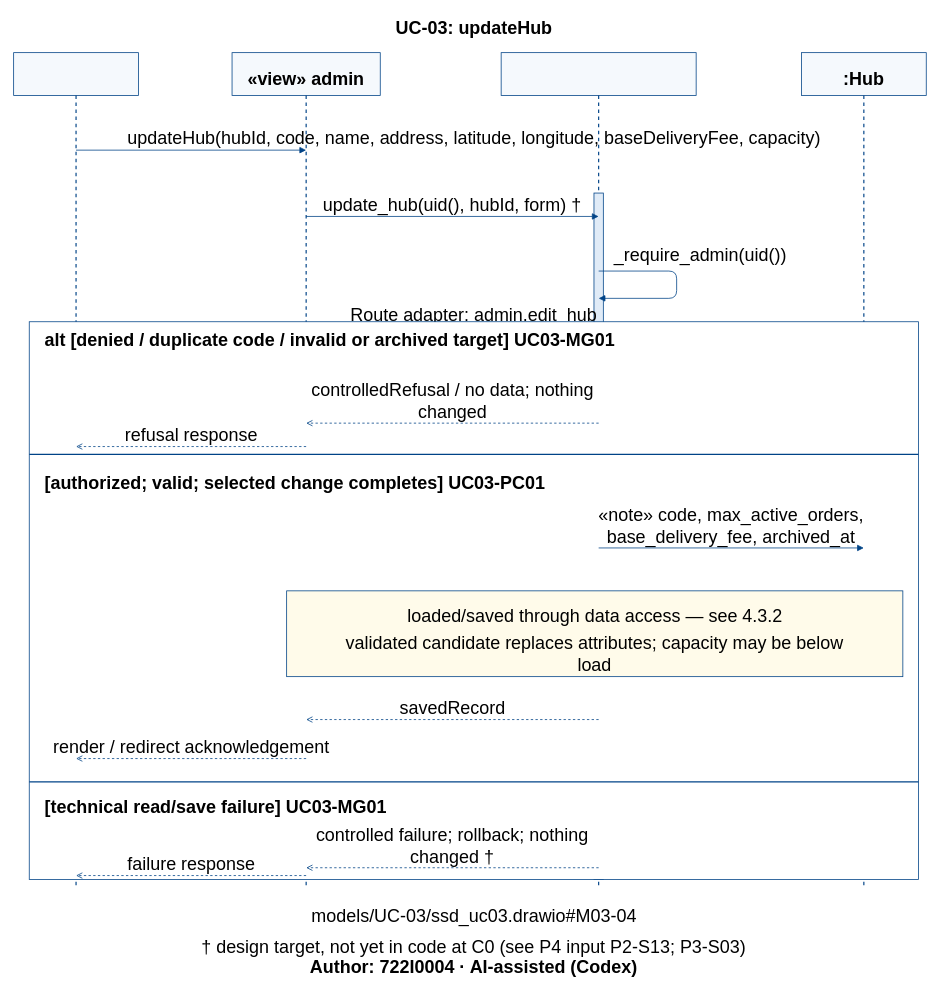
This 940x991 diagram has some shape labels left out. Each missing label, with the box of its shape:
:HubController: (500, 52, 696, 96)
Admin: (13, 52, 138, 96)
